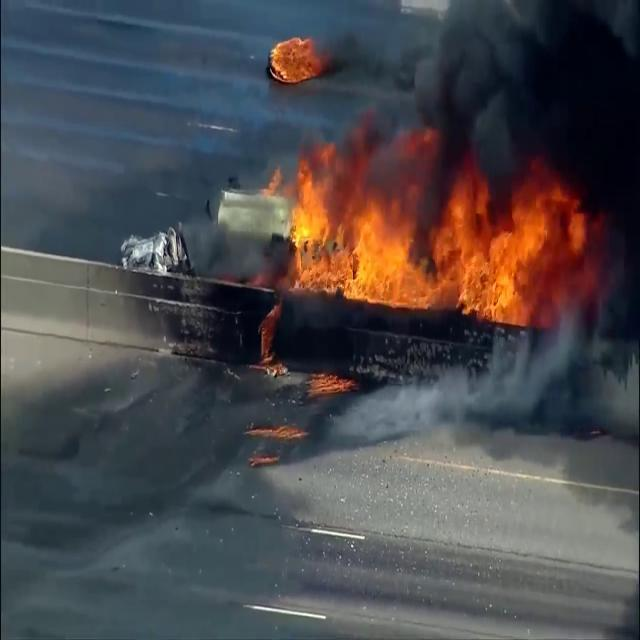Fire: (277, 160, 581, 328)
Smoke: (363, 2, 640, 202)
